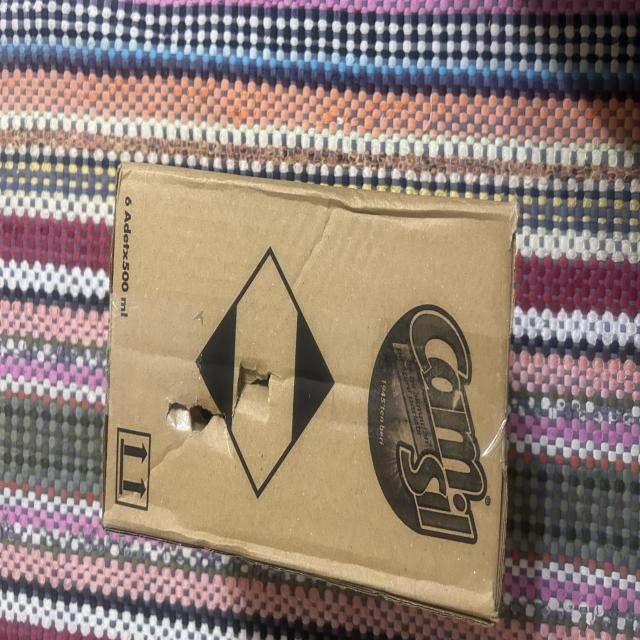damaged: (102, 161, 516, 624), (162, 347, 278, 449)
